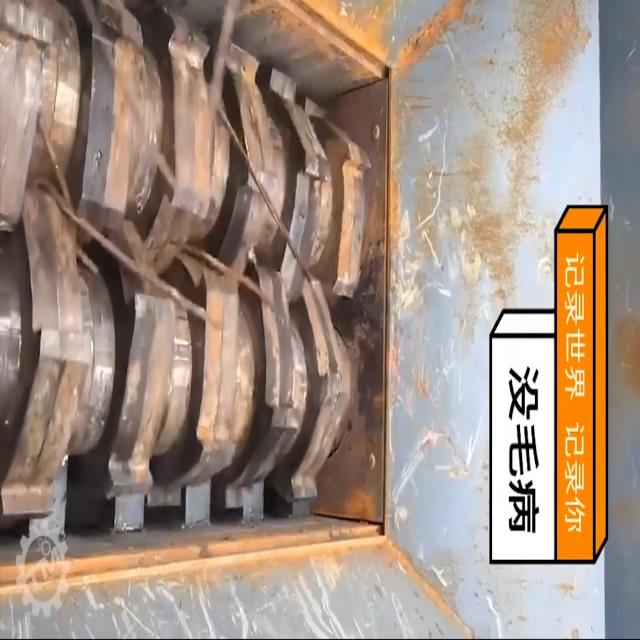Broyeur: (0, 0, 418, 640)
